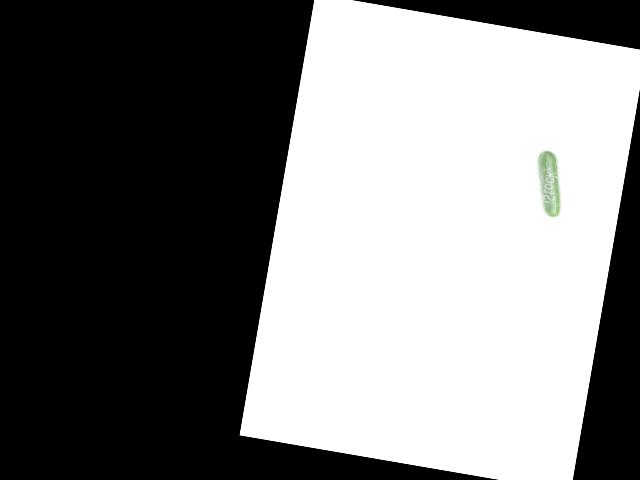cucumber: (528, 148, 569, 218)
